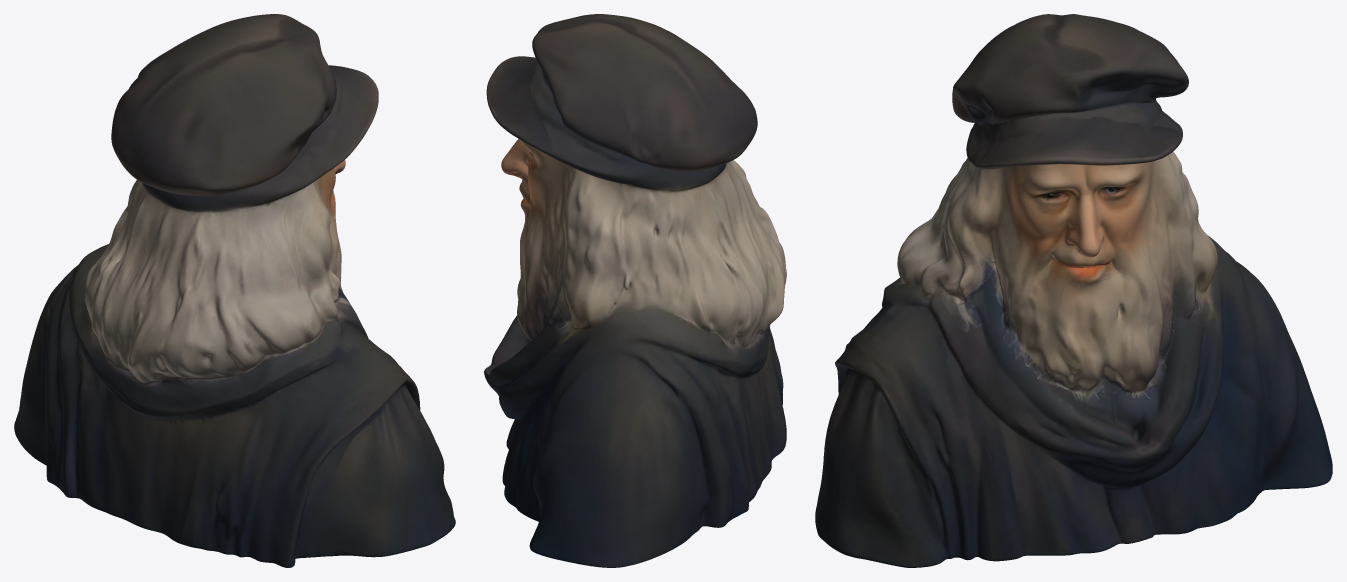
The model's file is leonardo.glb.
The picture shows the model from 3 angles, left to right: view 1: azimuth 30°, elevation 25°; view 2: azimuth 150°, elevation 25°; view 3: azimuth 270°, elevation 25°; orthographic projection. The views are drawn at different scales.
Visible parts, largest first — view 1: tripo_node_8482ef4f-43ed-480a-ba25-70b9a8ea76d3; view 2: tripo_node_8482ef4f-43ed-480a-ba25-70b9a8ea76d3; view 3: tripo_node_8482ef4f-43ed-480a-ba25-70b9a8ea76d3.
Part boxes in pixels (box(x1,y1,x2,y2)): tripo_node_8482ef4f-43ed-480a-ba25-70b9a8ea76d3: box(14, 14, 455, 567); tripo_node_8482ef4f-43ed-480a-ba25-70b9a8ea76d3: box(484, 14, 786, 567); tripo_node_8482ef4f-43ed-480a-ba25-70b9a8ea76d3: box(815, 14, 1332, 567).
Bounding box in the file's own units: 0.6852 × 1 × 0.9879.
1 material, 1 textured.
